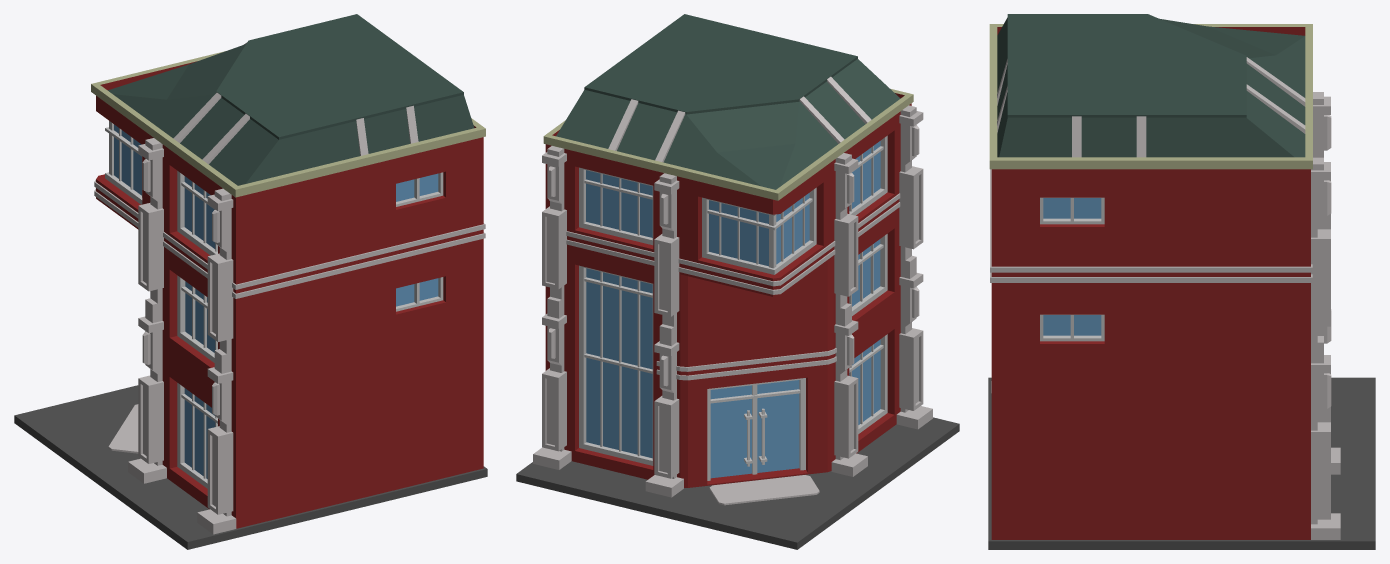
The model's file is Building_3A.fbx.
3 renders of one model, left to right at view 1: azimuth 30°, elevation 25°; view 2: azimuth 150°, elevation 25°; view 3: azimuth 270°, elevation 25°, orthographic. The views are drawn at different scales.
Parts seen in each view (by area): view 1: Building_H; view 2: Building_H; view 3: Building_H.
Part boxes in pixels (box(x1,y1,x2,y2)): Building_H: box(14, 14, 487, 549); Building_H: box(516, 14, 959, 549); Building_H: box(988, 14, 1375, 549).
Size of the model in its own units: 165 by 201 by 165.
